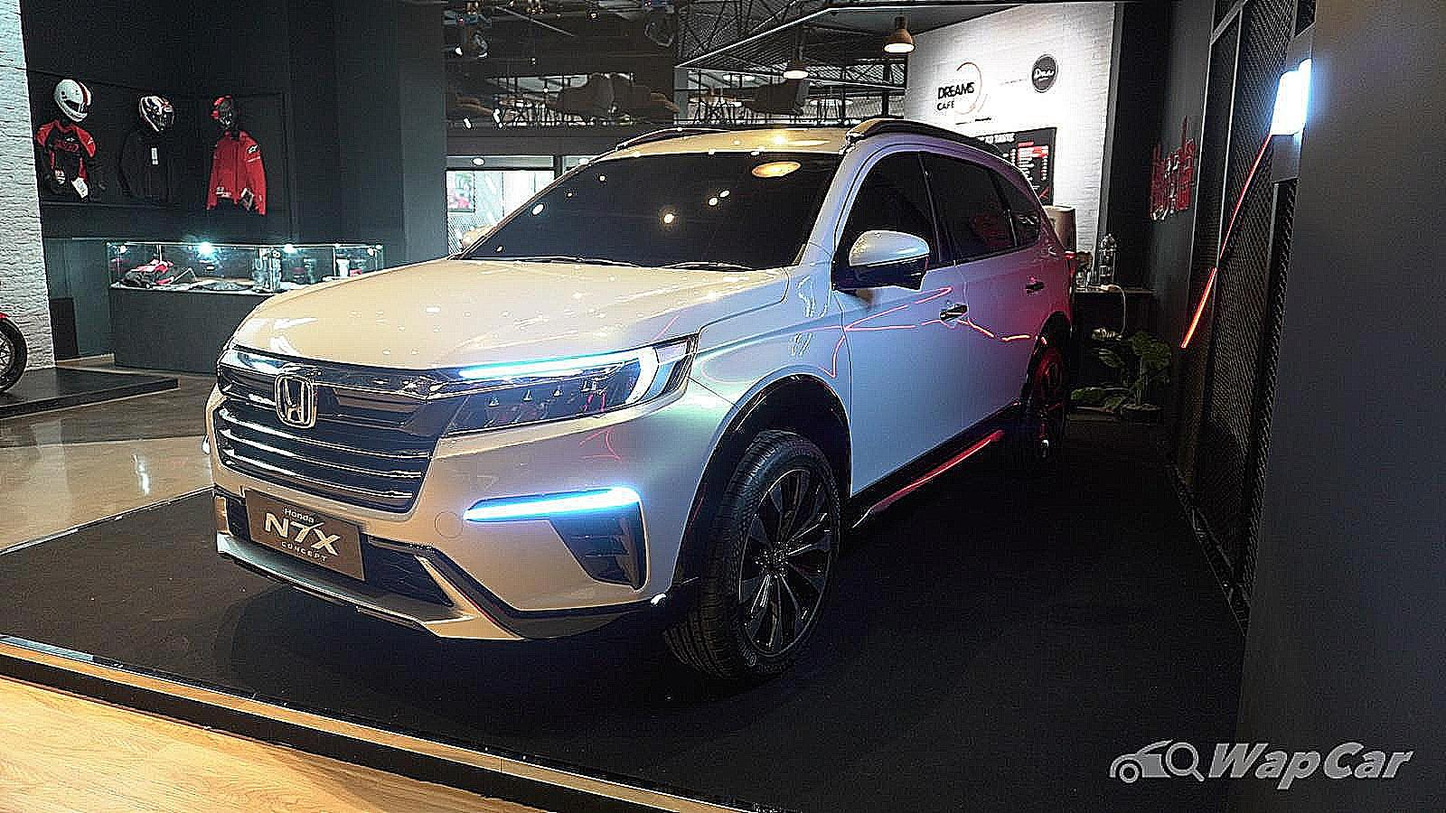Car hood: (223, 248, 792, 375)
Fender - -F-L-: (686, 237, 855, 546)
Front bumper: (193, 387, 753, 653)
Headlight - -L-: (398, 327, 706, 441)
Passenger-s door - -F-L-: (851, 139, 971, 501)
Passenger-s door - -R-L-: (938, 143, 1059, 449)
Side bumper - -L-: (837, 396, 1033, 553)
Side mirror - -L-: (835, 221, 944, 300)
